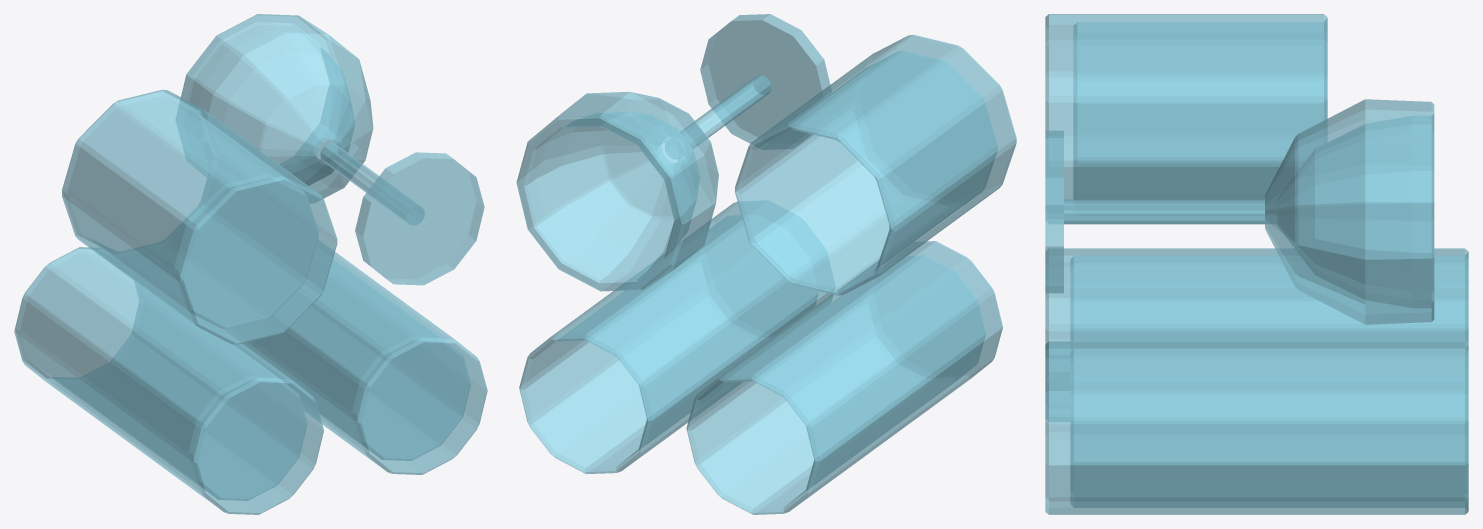
The model's file is GlasswareProps.fbx.
3 views of the same model, side by side, from view 1: azimuth 30°, elevation 25°; view 2: azimuth 150°, elevation 25°; view 3: azimuth 270°, elevation 25° (orthographic). The views are drawn at different scales.
Parts seen in each view (by area): view 1: RocksGlass_01_Prop_Body.001, HighballGlass_02_Prop_Body.001, HighballGlass_01_Prop_Body.001, CoupeBowl.001, CoupeBase.001, CoupeStem.001; view 2: HighballGlass_02_Prop_Body.001, RocksGlass_01_Prop_Body.001, HighballGlass_01_Prop_Body.001, CoupeBowl.001, CoupeBase.001, CoupeStem.001; view 3: HighballGlass_01_Prop_Body.001, RocksGlass_01_Prop_Body.001, HighballGlass_02_Prop_Body.001, CoupeBowl.001, CoupeStem.001, CoupeBase.001.
Part boxes in pixels (x1,y1,x2,y2): RocksGlass_01_Prop_Body.001: (62, 89, 337, 344); HighballGlass_02_Prop_Body.001: (14, 247, 323, 514); HighballGlass_01_Prop_Body.001: (224, 240, 487, 474); CoupeBowl.001: (176, 14, 373, 203); CoupeBase.001: (355, 152, 484, 285); CoupeStem.001: (320, 143, 423, 225); HighballGlass_02_Prop_Body.001: (686, 241, 1002, 514); RocksGlass_01_Prop_Body.001: (735, 34, 1016, 295); HighballGlass_01_Prop_Body.001: (519, 201, 834, 474); CoupeBowl.001: (516, 91, 718, 291); CoupeBase.001: (700, 14, 831, 149); CoupeStem.001: (665, 75, 771, 158); HighballGlass_01_Prop_Body.001: (1045, 341, 1468, 514); RocksGlass_01_Prop_Body.001: (1045, 14, 1327, 223); HighballGlass_02_Prop_Body.001: (1045, 248, 1468, 421); CoupeBowl.001: (1265, 99, 1434, 324); CoupeStem.001: (1064, 199, 1264, 224); CoupeBase.001: (1045, 130, 1063, 293).
Bounding box in the file's own units: 0.1397 × 0.1401 × 0.135.
